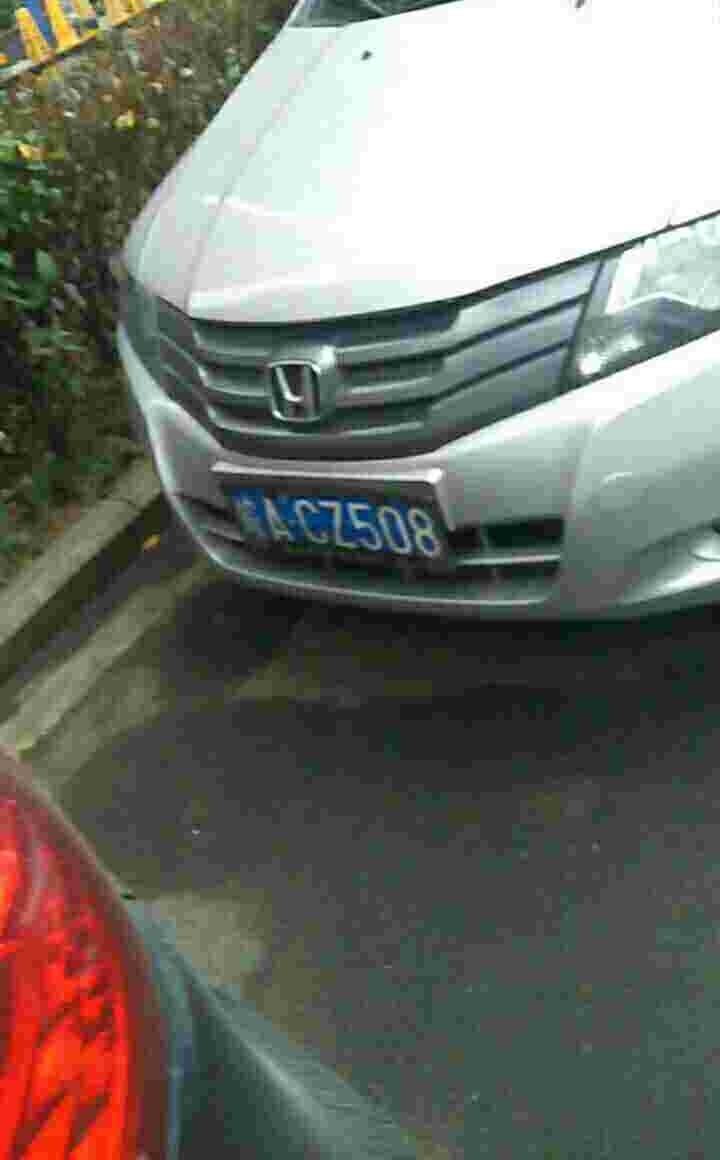license_plate: (230, 488, 449, 564)
